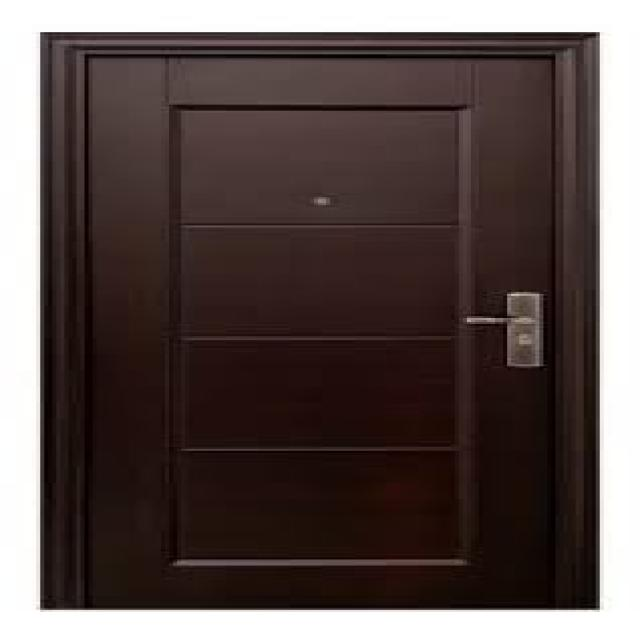door: (42, 32, 598, 610)
